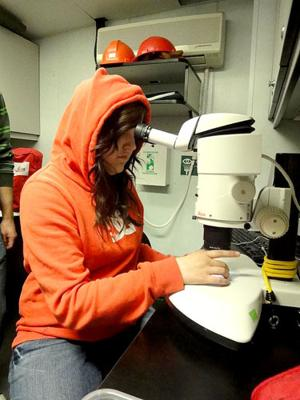person: (10, 69, 234, 398)
